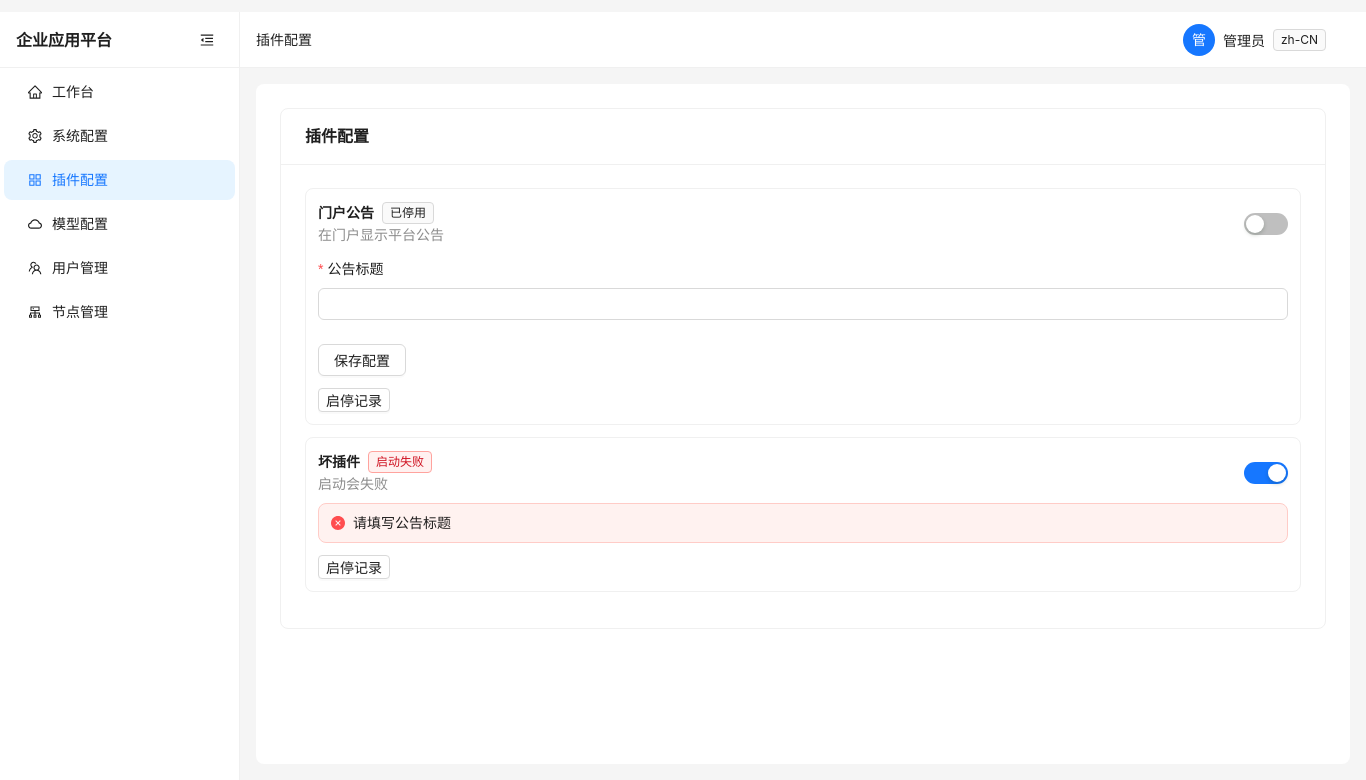
portal shell › shows plugin state, failure reason, and load toggles
Later steps or results of the test are not shown.
Expected: the text with test id "platform/plugin-config/portal-notice/status" reads "已停用", [390,205,426,220]
Expected: the text with test id "platform/plugin-config/broken-plugin/status" reads "启动失败", [376,454,424,469]
What coordinates should you click on to do the following:
click the switch with test id "platform/plugin-config/portal-notice/switch"
I would click on:
 (1266, 224)
Its box is [1244,213,1288,235].
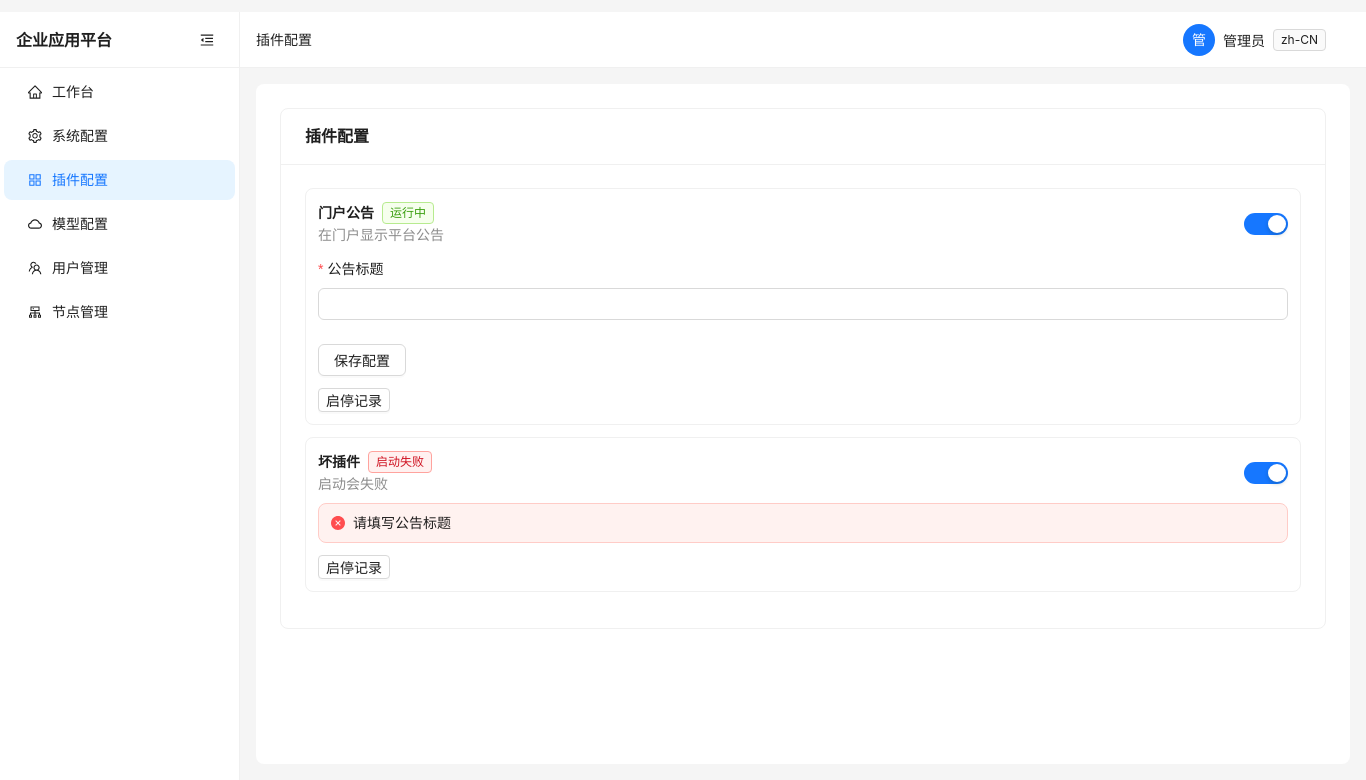
Now the text with test id "platform/plugin-config/portal-notice/status" reads "运行中", box [390,205,426,220]
What coordinates should you click on to do the following:
click the button with test id "platform/plugin-config/portal-notice/events-button"
I would click on:
 (354, 400)
Its box is [318,388,390,412].
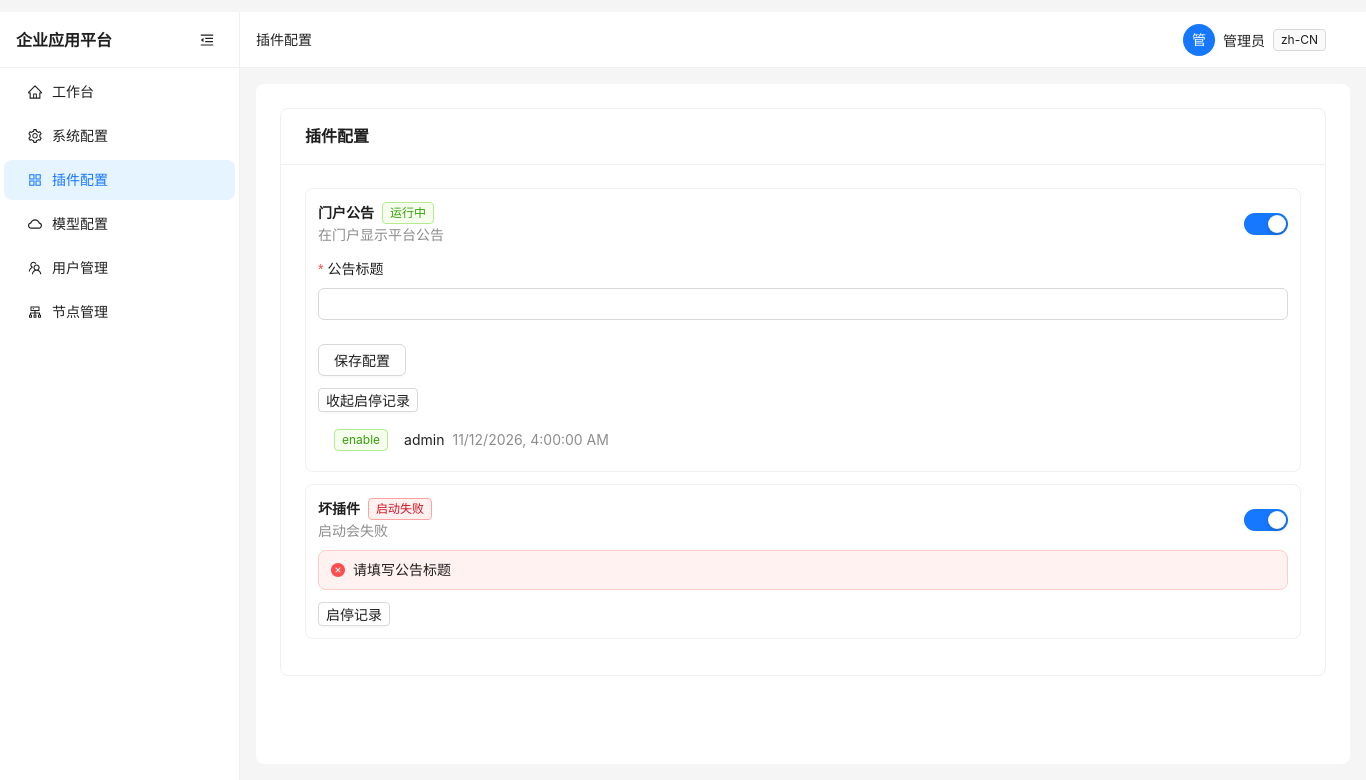
Now the list item with test id "platform/plugin-config/portal-notice/event-0" shows "enable", box [342,432,380,447]
